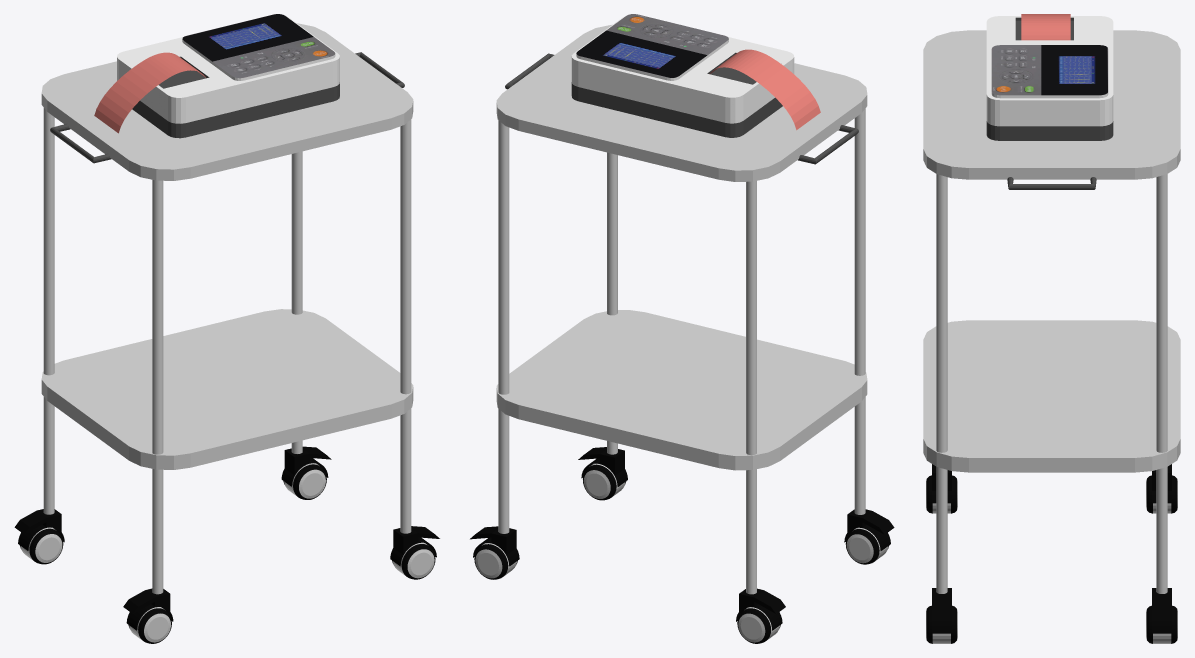
3 views of the same model, side by side, from view 1: azimuth 30°, elevation 25°; view 2: azimuth 150°, elevation 25°; view 3: azimuth 270°, elevation 25° (orthographic).
Parts seen in each view (by area): view 1: EM-6; view 2: EM-6; view 3: EM-6.
Boxes of the visible parts, x1=… form: EM-6: x1=14, y1=14, x2=439, y2=643; EM-6: x1=470, y1=14, x2=894, y2=643; EM-6: x1=923, y1=14, x2=1180, y2=643.
Size of the model in its own units: 56.71 by 90.75 by 40.
Materials: 7 (2 with a texture image).
